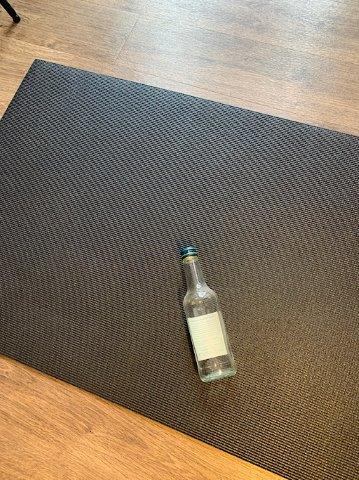botolkaca: (182, 248, 236, 380)
